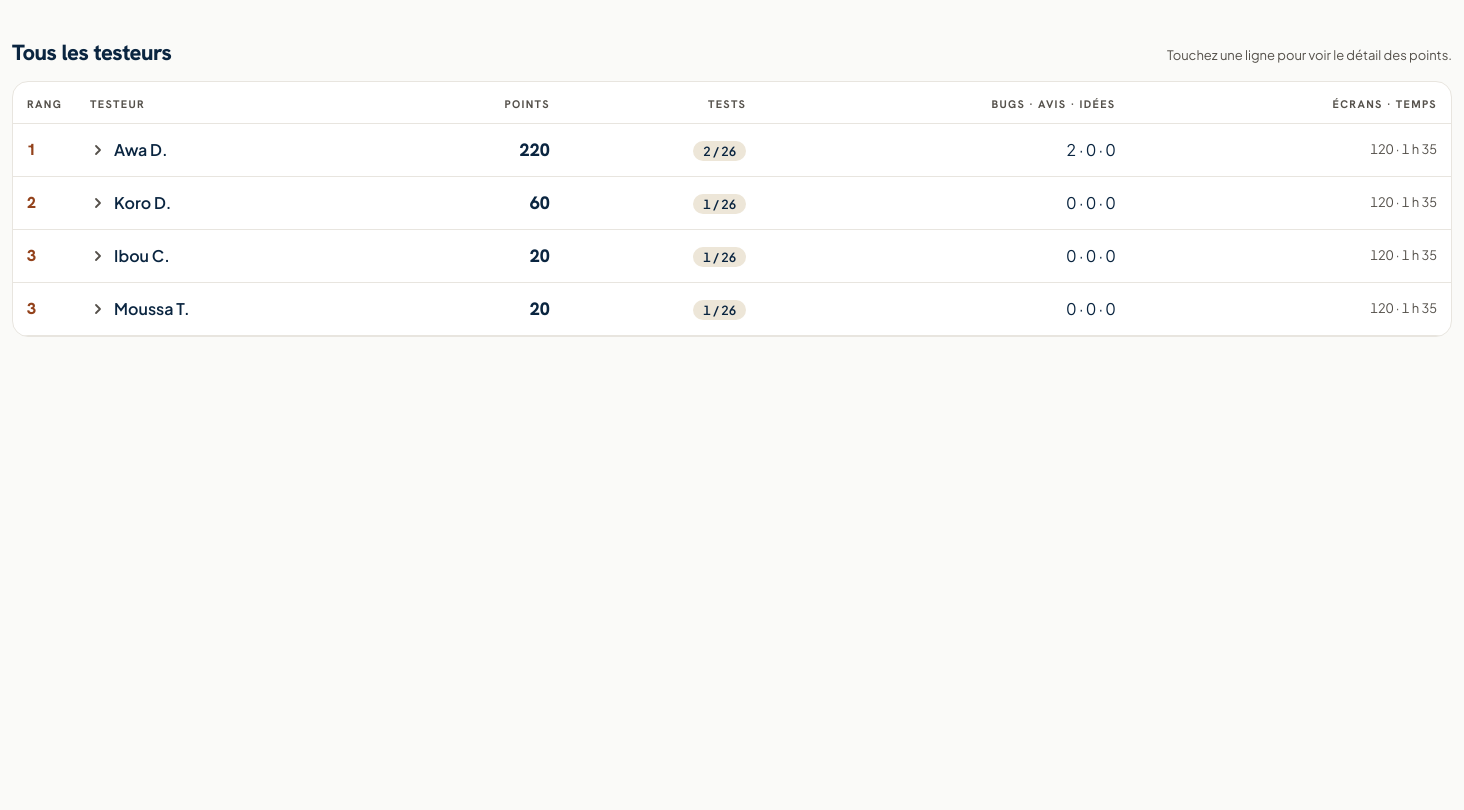
Test: ContestTable : tests manquants › liste dans le détail ce qui manque pour valider les 26 tests
The image size is (1464, 810).
Click the button "Moussa T." at (152, 308), box [82,290,380,326]
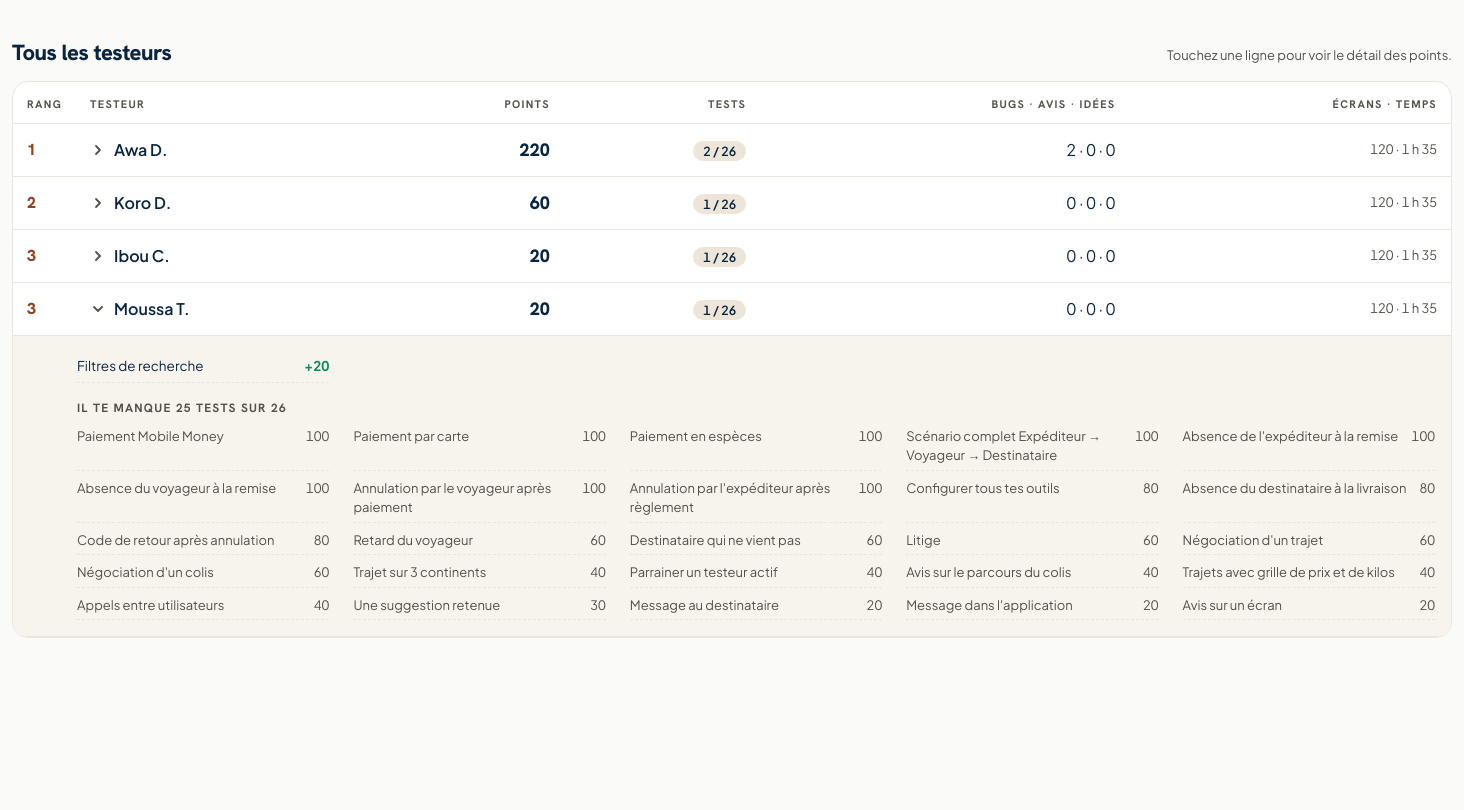
Now the element with test id "board-missing" shows "Il te manque 25 tests sur 26", box [77,400,287,416]
Now the list item "Paiement Mobile Money 100" is shown, box [77,423,329,471]
